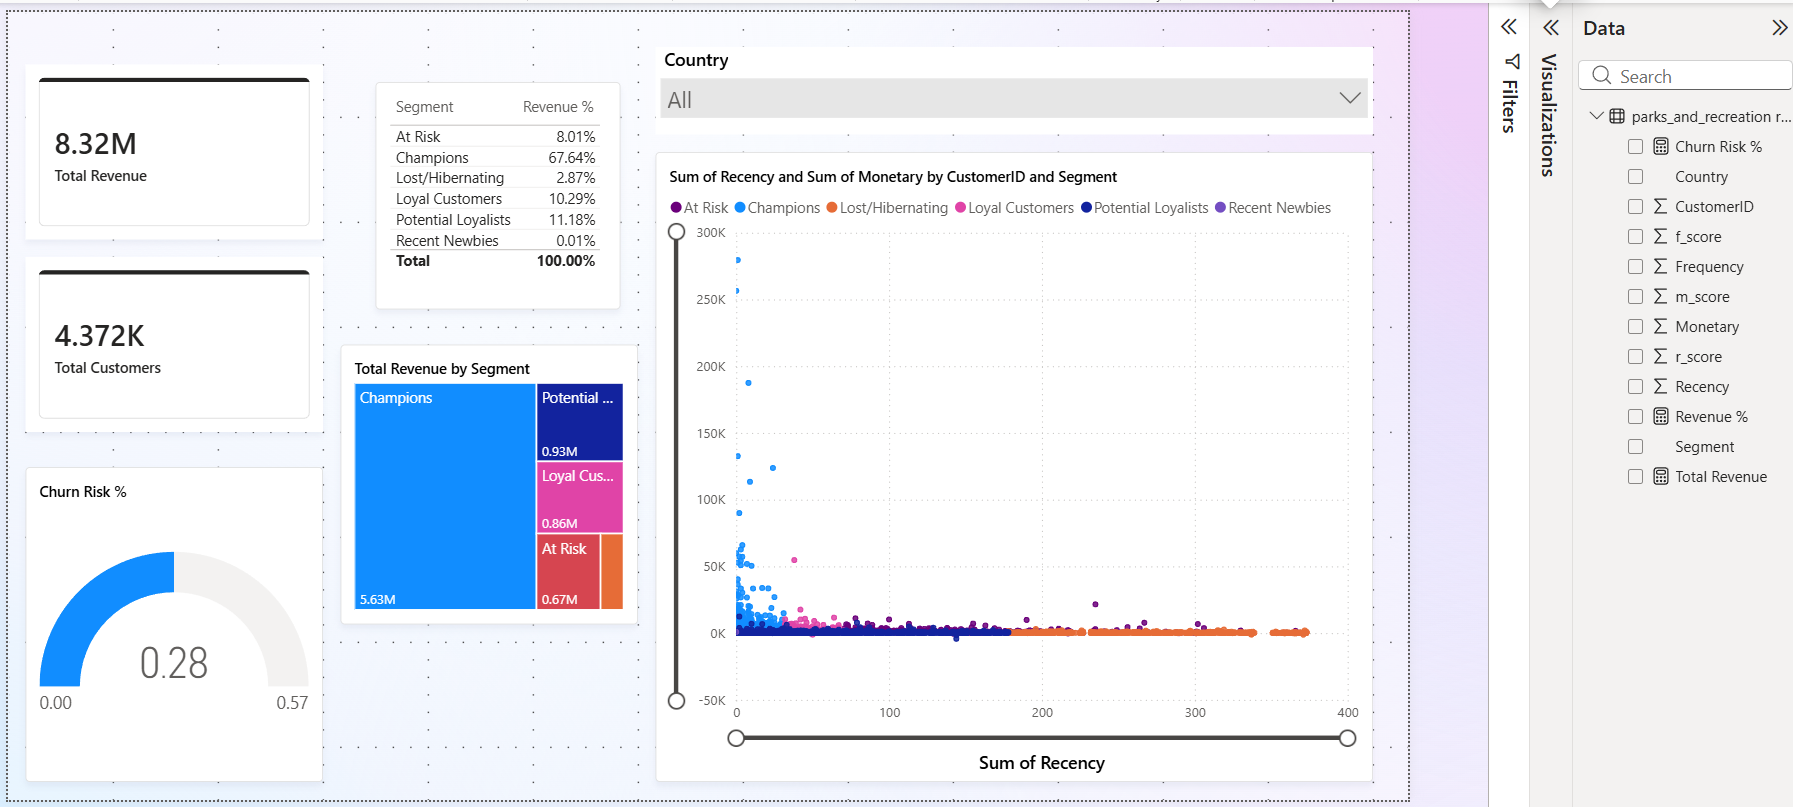

This screenshot's page, from the dashboard's own definition file:
{"tool":"powerbi","page":{"name":"Page 1","canvas":[1280,720],"ordinal":0},"visuals":[{"type":"treemap","fields":{"Group":["parks_and_recreation rfm_segments.Segment"],"Values":["Sum(parks_and_recreation rfm_segments.Monetary)"]},"box":[304,304,272,256],"z":0},{"type":"scatterChart","fields":{"X":["Sum(parks_and_recreation rfm_segments.Recency)"],"Y":["Sum(parks_and_recreation rfm_segments.Monetary)"],"Series":["parks_and_recreation rfm_segments.Segment"],"Category":["parks_and_recreation rfm_segments.CustomerID"]},"box":[592,128,656,576],"z":1000},{"type":"cardVisual","fields":{"Data":["parks_and_recreation rfm_segments.Total Revenue"]},"box":[16,48,272,160],"z":1001},{"type":"cardVisual","fields":{"Data":["Count(parks_and_recreation rfm_segments.CustomerID)"]},"box":[16,224,272,160],"z":1002},{"type":"slicer","fields":{"Values":["parks_and_recreation rfm_segments.Country"]},"box":[592,32,656,80],"z":1003},{"type":"gauge","fields":{"Y":["parks_and_recreation rfm_segments.Churn Risk %"]},"box":[16,416,272,288],"z":1004},{"type":"tableEx","fields":{"Values":["parks_and_recreation rfm_segments.Segment","parks_and_recreation rfm_segments.Revenue %"]},"box":[336,64,224,208],"z":1005}]}

Visuals, with their boxes on the page's 1280x720 design canvas (x1, y1, x2, y2). These are canvas units, not pixel positions in the 1793x807 screenshot, which may show the page scaled, cropped or inside an application window:
treemap - parks_and_recreation rfm_segments.Segment x Sum(parks_and_recreation rfm_segments.Monetary): (304,304,576,560)
scatterChart - Sum(parks_and_recreation rfm_segments.Recency) x Sum(parks_and_recreation rfm_segments.Monetary): (592,128,1248,704)
cardVisual - parks_and_recreation rfm_segments.Total Revenue: (16,48,288,208)
cardVisual - Count(parks_and_recreation rfm_segments.CustomerID): (16,224,288,384)
slicer - parks_and_recreation rfm_segments.Country: (592,32,1248,112)
gauge - parks_and_recreation rfm_segments.Churn Risk %: (16,416,288,704)
tableEx - parks_and_recreation rfm_segments.Segment x parks_and_recreation rfm_segments.Revenue %: (336,64,560,272)
